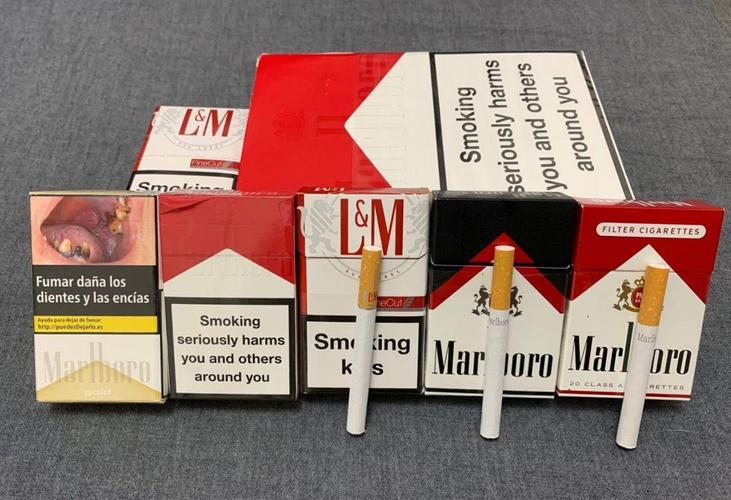smoke: (616, 263, 670, 449), (480, 246, 515, 440), (346, 247, 382, 435)
